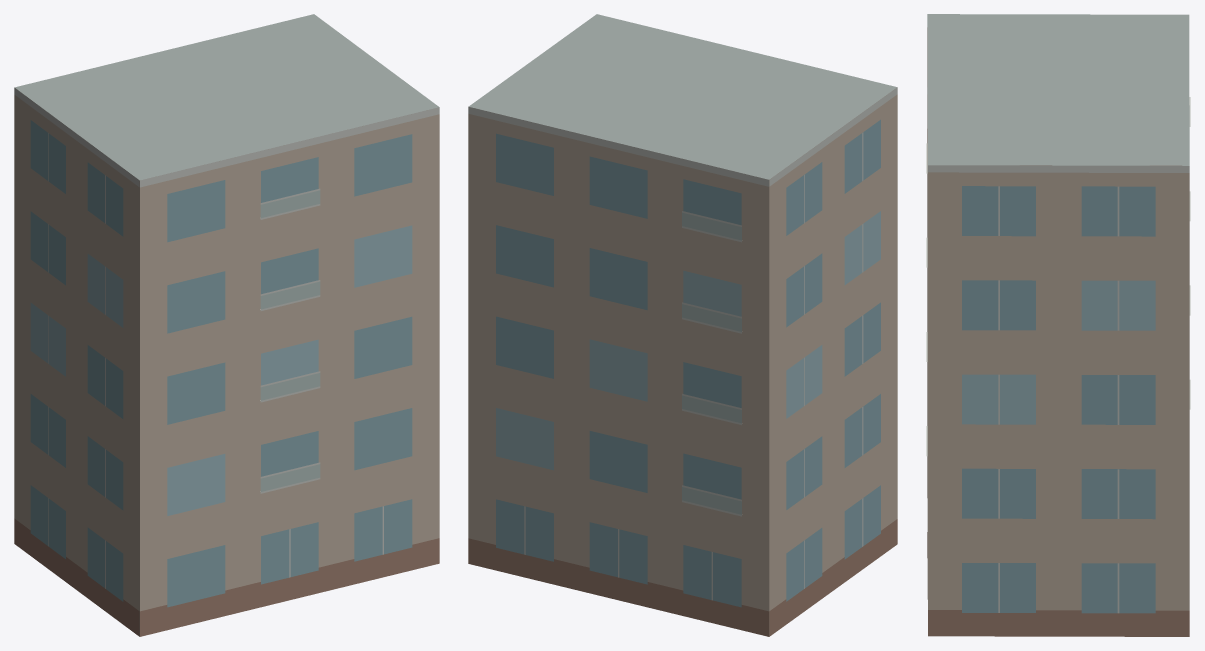
Rendered from survey-upis-32916665.glb.
3 renders of one model, left to right at view 1: azimuth 30°, elevation 25°; view 2: azimuth 150°, elevation 25°; view 3: azimuth 270°, elevation 25°, orthographic. The views are drawn at different scales.
Visible parts, largest first — view 1: survey-upis-32916665.tmp; view 2: survey-upis-32916665.tmp; view 3: survey-upis-32916665.tmp.
Boxes of the visible parts, box(x1,y1,x2,y2) form: survey-upis-32916665.tmp: box(14, 14, 439, 636); survey-upis-32916665.tmp: box(468, 14, 897, 636); survey-upis-32916665.tmp: box(926, 14, 1190, 636).
Bounding box in the file's own units: 10.93 × 15.8 × 8.03.
